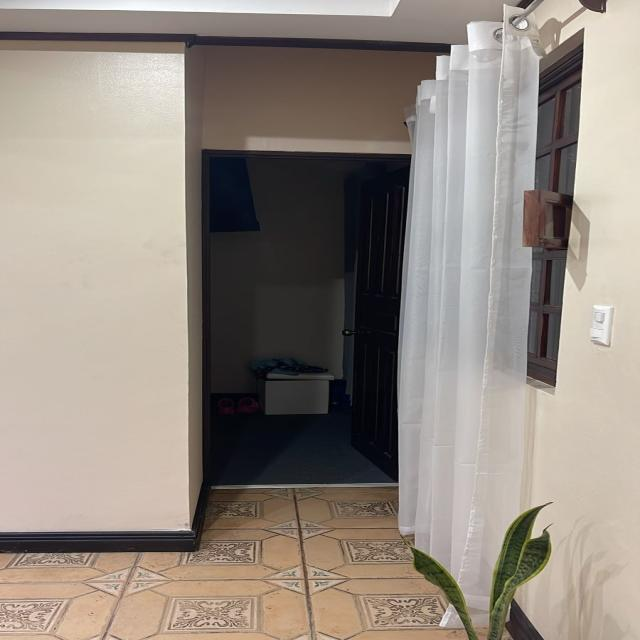OpenDoor: (192, 134, 409, 497)
